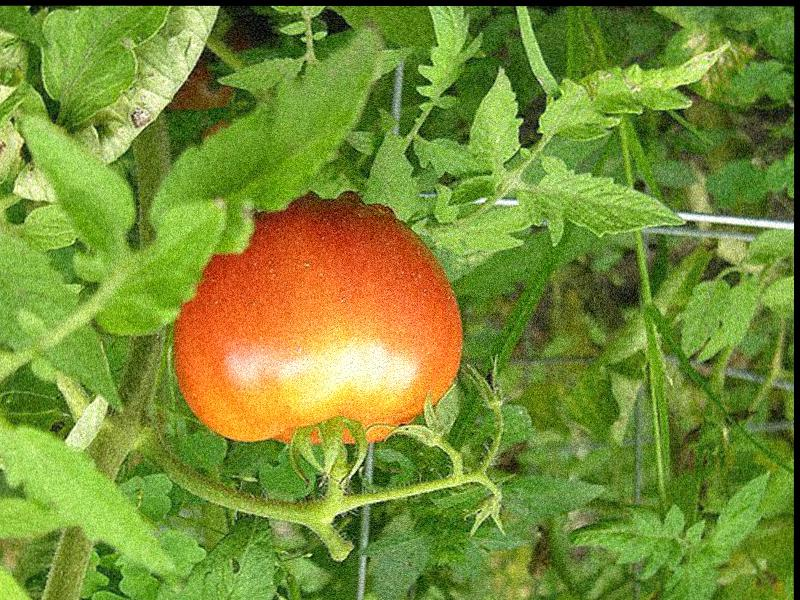Tomato: (175, 202, 460, 446)
